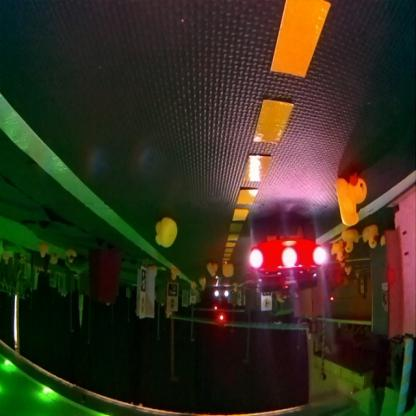Duckie: (336, 174, 366, 226), (154, 218, 176, 247), (341, 230, 358, 254), (362, 226, 377, 250), (330, 242, 344, 262), (221, 264, 232, 278), (206, 266, 216, 277), (66, 252, 74, 263), (344, 266, 351, 276), (170, 271, 176, 281), (199, 278, 205, 286), (191, 284, 194, 292)
Duckiebot: (244, 224, 328, 292)
Intersection sign: (261, 298, 271, 311)
QR code: (139, 269, 146, 293), (167, 285, 177, 297)
Traffic light: (217, 314, 224, 324), (212, 304, 218, 311)
